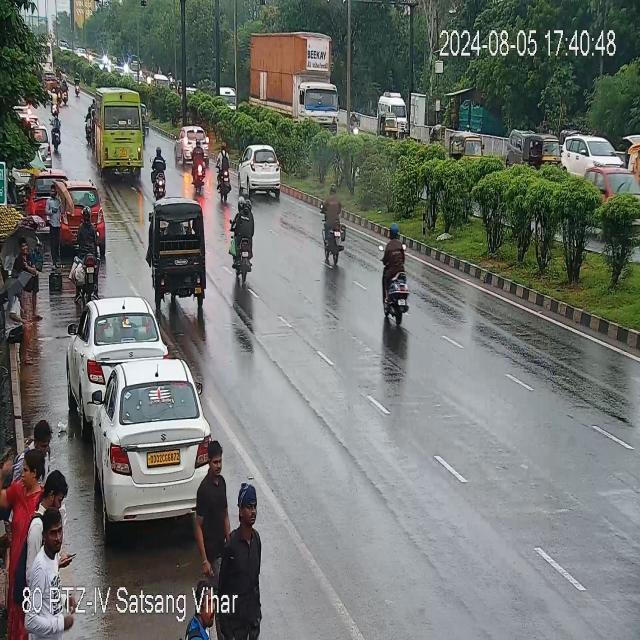2-wheelers: (375, 226, 415, 330), (228, 202, 260, 279), (321, 188, 352, 264), (77, 207, 99, 297), (149, 149, 171, 198), (189, 142, 209, 189), (215, 146, 232, 201), (55, 74, 69, 104), (47, 85, 60, 117), (86, 107, 95, 148), (52, 114, 61, 153), (74, 73, 80, 95)
auto: (149, 205, 211, 304), (527, 130, 566, 171), (446, 132, 481, 161), (377, 110, 398, 135)
bus: (90, 92, 154, 178)
car: (72, 358, 222, 530), (67, 298, 163, 421), (63, 184, 106, 255), (237, 149, 284, 201), (566, 136, 620, 180), (177, 124, 213, 166), (29, 167, 51, 224), (506, 128, 524, 168)
pedestrian: (218, 492, 271, 632), (21, 518, 76, 622), (194, 445, 232, 583), (22, 414, 62, 496), (15, 238, 42, 329), (42, 185, 66, 276)
truck: (238, 31, 344, 132)
